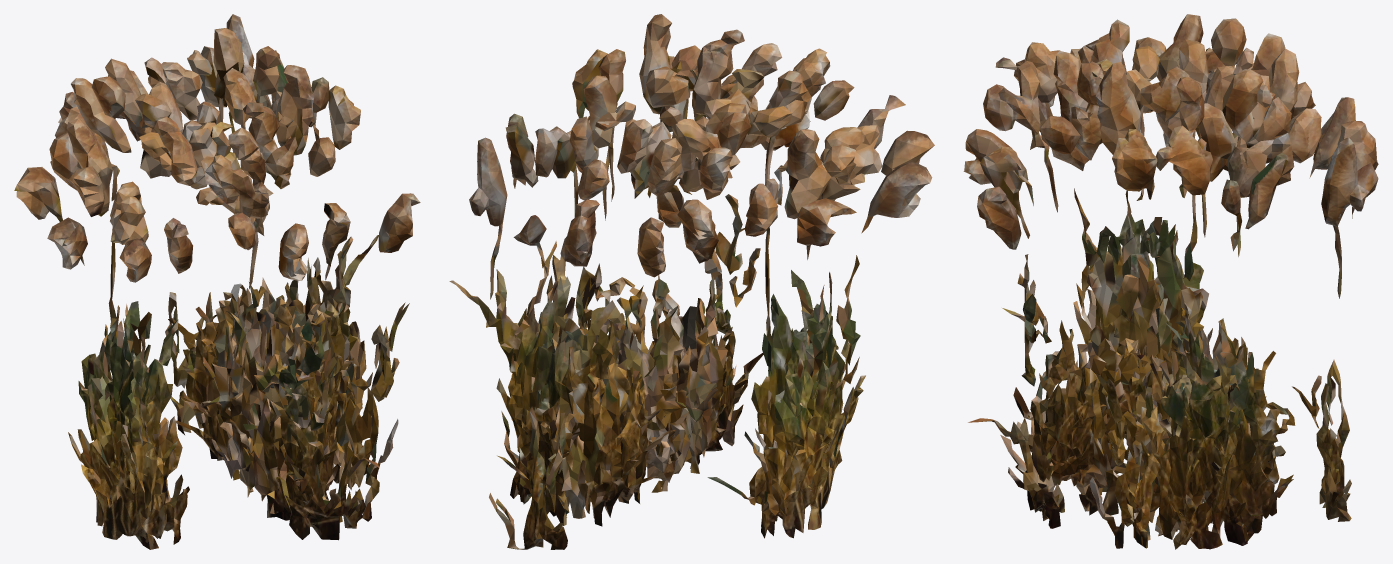
Rendered from traveler_env_coast_kudo_reed_bank_00001_.glb.
3 renders of one model, left to right at view 1: azimuth 30°, elevation 25°; view 2: azimuth 150°, elevation 25°; view 3: azimuth 270°, elevation 25°, orthographic. The views are drawn at different scales.
Parts seen in each view (by area): view 1: temp_mesh.ply; view 2: temp_mesh.ply; view 3: temp_mesh.ply.
Boxes of the visible parts, x1,y1,x2,y2 form: temp_mesh.ply: (14, 14, 420, 549); temp_mesh.ply: (449, 14, 934, 549); temp_mesh.ply: (963, 14, 1378, 549).
Bounding box in the file's own units: 1.67 × 1.78 × 1.49.
Materials: 1 (1 with a texture image).
